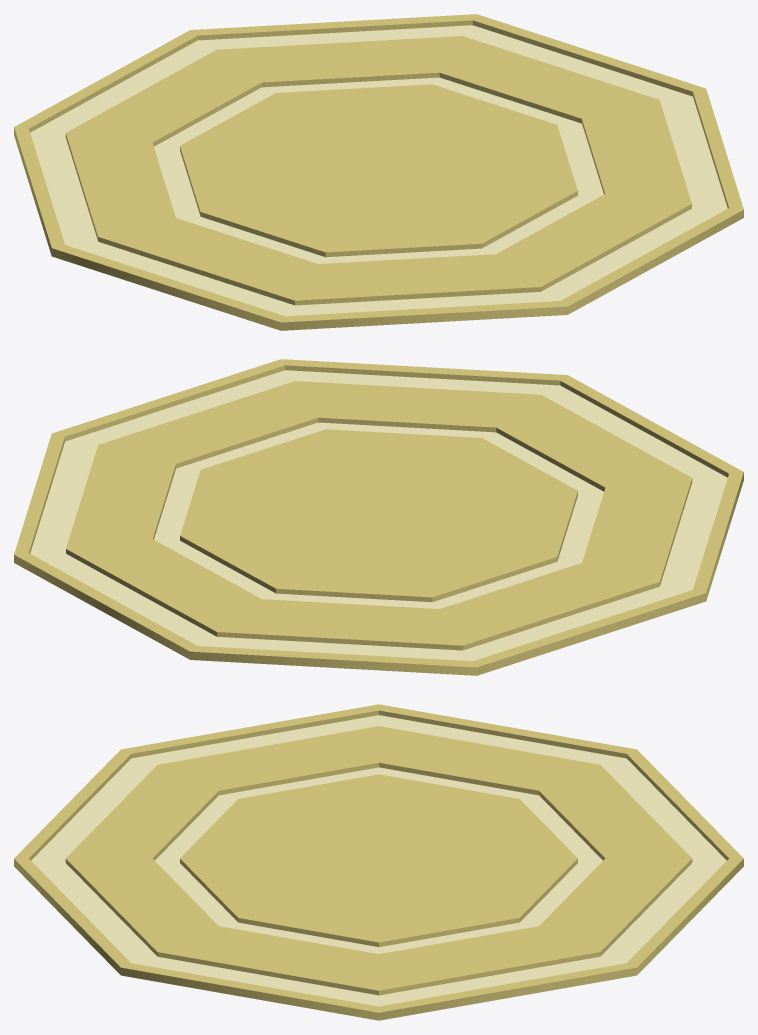
Rendered from Itr_Carpet1_02.FBX.
3 renders of one model, top to bottom at view 1: azimuth 30°, elevation 25°; view 2: azimuth 150°, elevation 25°; view 3: azimuth 270°, elevation 25°, orthographic. The views are drawn at different scales.
Visible parts, largest first — view 1: Itr_Carpet1_02; view 2: Itr_Carpet1_02; view 3: Itr_Carpet1_02.
Part boxes in pixels (x1,y1,x2,y2): Itr_Carpet1_02: (14, 14, 743, 330); Itr_Carpet1_02: (14, 359, 743, 675); Itr_Carpet1_02: (14, 704, 743, 1020).
Size of the model in its own units: 121 by 1.46 by 121.
